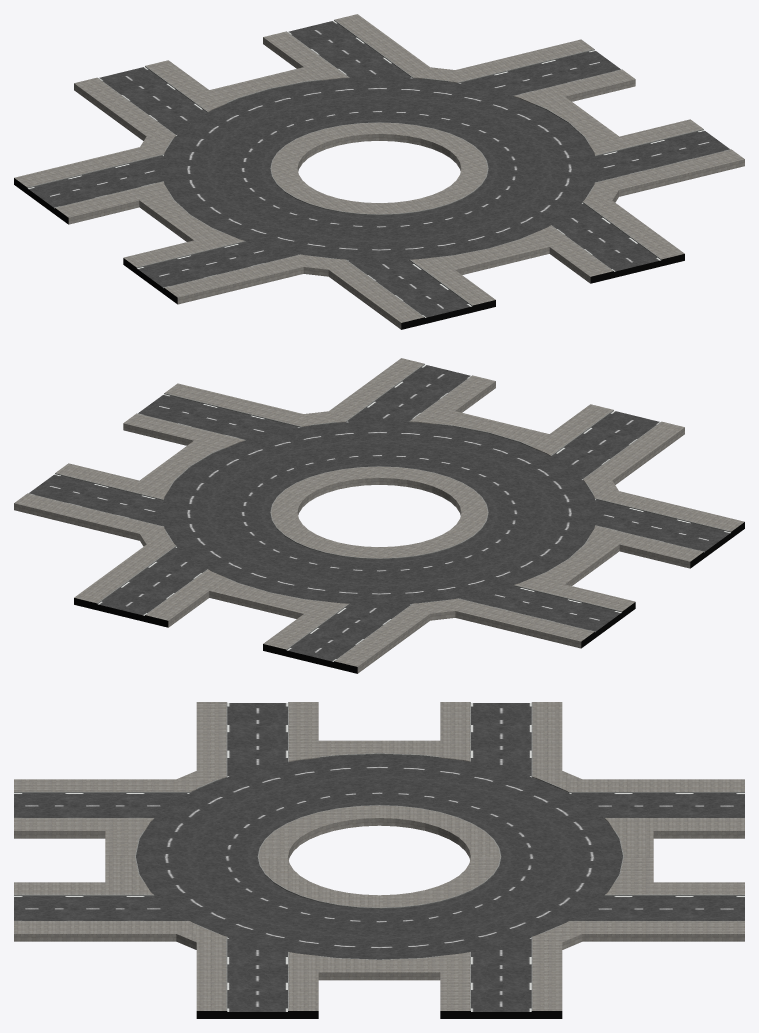
File: center0_high.fbx
The picture shows the model from 3 angles, top to bottom: view 1: azimuth 30°, elevation 25°; view 2: azimuth 150°, elevation 25°; view 3: azimuth 270°, elevation 25°; orthographic projection. The views are drawn at different scales.
Visible parts, largest first — view 1: materialE300, materialA300, materialB300, materialD300, materialC300; view 2: materialE300, materialA300, materialB300, materialD300, materialC300; view 3: materialE300, materialA300, materialB300, materialD300, materialC300.
Part boxes in pixels (box(x1,y1,x2,y2)): materialE300: box(28, 20, 730, 317); materialA300: box(14, 14, 744, 329); materialB300: box(27, 19, 731, 317); materialD300: box(14, 178, 684, 329); materialC300: box(27, 20, 703, 305); materialE300: box(28, 364, 730, 661); materialA300: box(14, 358, 744, 673); materialB300: box(27, 363, 731, 661); materialD300: box(74, 522, 744, 673); materialC300: box(55, 364, 731, 649); materialE300: box(14, 703, 744, 1011); materialA300: box(14, 702, 744, 1010); materialB300: box(14, 702, 744, 1010); materialD300: box(196, 1011, 562, 1018); materialC300: box(14, 753, 744, 908).
Size of the model in its own units: 154 by 1.8 by 154.
